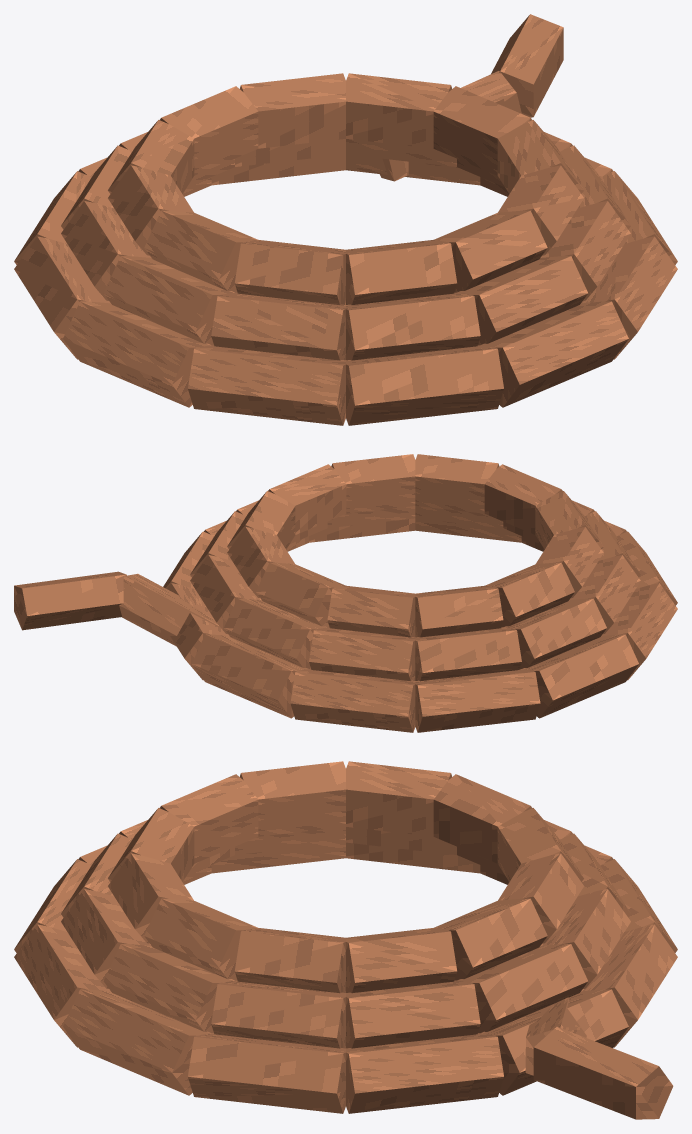
The model's file is copper_wire.glb.
3 renders of one model, top to bottom at view 1: azimuth 30°, elevation 25°; view 2: azimuth 150°, elevation 25°; view 3: azimuth 270°, elevation 25°, orthographic. The views are drawn at different scales.
Visible parts, largest first — view 1: block_coil 03, block_coil 04, block_coil 02, block_coil 05, block_coil 13, block_coil 14, block_coil 12, block_coil 15, block_coil 29, block_coil 210, block_coil 23, block_coil 24 (+24 smaller); view 2: block_coil 08, block_coil 07, block_coil 06, block_coil 09, block_loose end 1, block_coil 18, block_coil 17, block_coil 19, block_coil 16, block_coil 21, block_coil 22, block_coil 28 (+22 smaller); view 3: block_coil 00, block_coil 011, block_coil 01, block_loose end 1, block_coil 10, block_coil 111, block_coil 11, block_coil 110, block_coil 25, block_coil 26, block_coil 20, block_coil 211 (+24 smaller).
Part boxes in pixels (x1,y1,x2,y2): block_coil 03: [346, 345, 503, 425]; block_coil 04: [188, 345, 345, 425]; block_coil 02: [481, 301, 628, 407]; block_coil 05: [63, 301, 210, 407]; block_coil 13: [346, 292, 480, 360]; block_coil 14: [211, 292, 345, 360]; block_coil 12: [457, 256, 588, 345]; block_coil 15: [103, 256, 234, 345]; block_coil 29: [240, 73, 345, 148]; block_coil 210: [346, 73, 451, 148]; block_coil 23: [346, 240, 457, 304]; block_coil 24: [234, 240, 345, 304]; block_coil 08: [290, 669, 415, 732]; block_coil 07: [415, 669, 540, 732]; block_coil 06: [522, 634, 638, 718]; block_coil 09: [192, 634, 308, 718]; block_loose end 1: [14, 571, 126, 630]; block_coil 18: [309, 627, 415, 681]; block_coil 17: [415, 627, 521, 681]; block_coil 19: [224, 598, 326, 669]; block_coil 16: [504, 598, 606, 669]; block_coil 21: [331, 454, 415, 513]; block_coil 22: [415, 454, 499, 513]; block_coil 28: [327, 585, 415, 637]; block_coil 00: [188, 1033, 345, 1113]; block_coil 011: [346, 1033, 503, 1113]; block_coil 01: [63, 989, 210, 1095]; block_loose end 1: [533, 1026, 673, 1119]; block_coil 10: [211, 980, 345, 1048]; block_coil 111: [346, 980, 480, 1048]; block_coil 11: [103, 944, 234, 1033]; block_coil 110: [457, 944, 588, 1033]; block_coil 25: [240, 761, 345, 836]; block_coil 26: [346, 761, 451, 836]; block_coil 20: [234, 928, 345, 993]; block_coil 211: [346, 928, 457, 993].
Size of the model in its own units: 0.3 by 0.0579 by 0.2653.
Materials: 1 (1 with a texture image).
